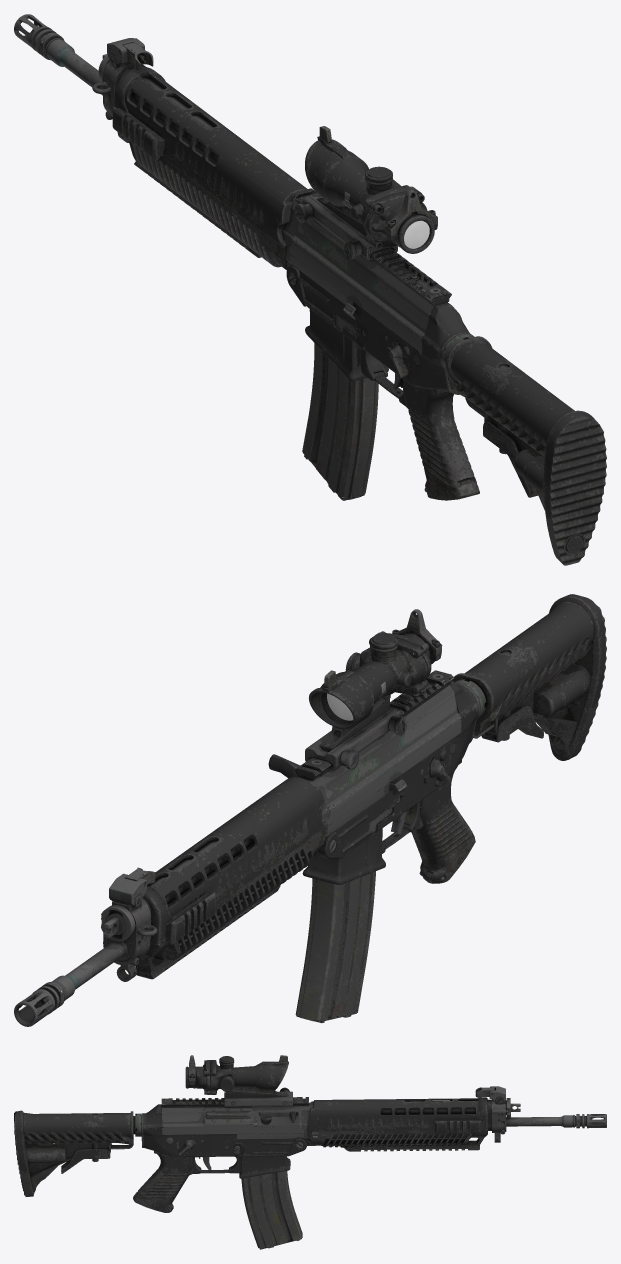
3 views of the same model, one above another, from view 1: azimuth 30°, elevation 25°; view 2: azimuth 150°, elevation 25°; view 3: azimuth 270°, elevation 25° (orthographic). The views are drawn at different scales.
Parts seen in each view (by area): view 1: v_sg552_R; view 2: v_sg552_R; view 3: v_sg552_R.
Boxes of the visible parts, x1=… form: v_sg552_R: x1=14, y1=14, x2=606, y2=565; v_sg552_R: x1=14, y1=594, x2=606, y2=1026; v_sg552_R: x1=14, y1=1055, x2=606, y2=1249.
Size of the model in its own units: 0.0755 by 0.3145 by 0.8911.
2 materials, 2 textured.
